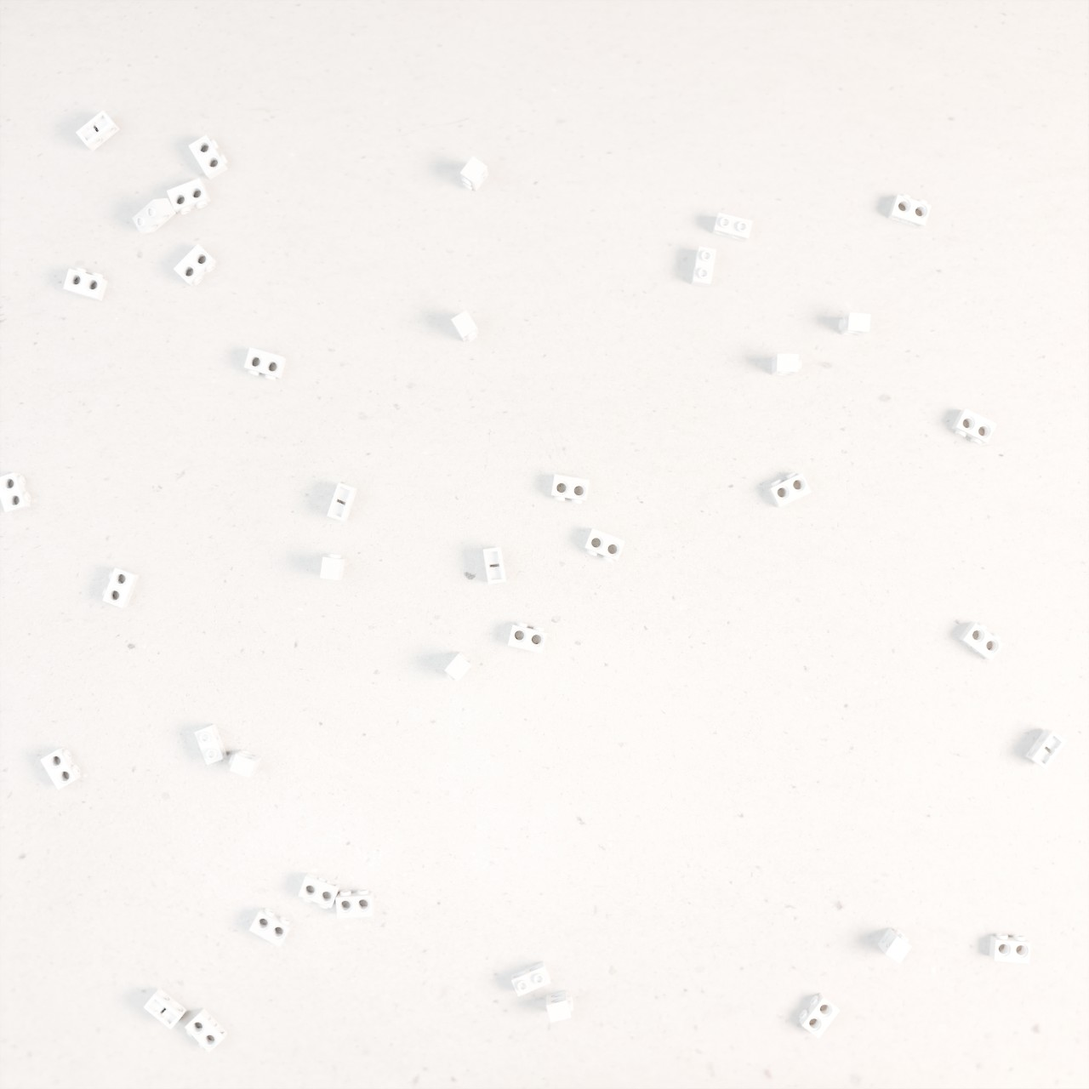lego: (185, 1008, 228, 1053), (173, 244, 217, 287), (799, 993, 840, 1039), (143, 988, 187, 1030), (75, 110, 120, 151), (188, 135, 228, 180), (958, 622, 1004, 661), (1025, 728, 1067, 770), (40, 747, 81, 790), (249, 908, 293, 947), (952, 408, 997, 445), (167, 178, 211, 215), (298, 872, 341, 909), (768, 472, 812, 508), (132, 198, 176, 234), (888, 194, 932, 229), (63, 267, 108, 301), (102, 567, 139, 608), (244, 347, 287, 381), (511, 961, 551, 997), (584, 528, 625, 563), (194, 723, 228, 765), (989, 933, 1031, 964), (877, 927, 912, 964), (0, 472, 31, 513), (508, 622, 547, 654), (712, 212, 753, 242), (327, 482, 357, 522), (336, 889, 374, 919), (551, 474, 589, 504), (691, 246, 716, 288), (460, 156, 488, 192), (228, 749, 262, 778), (546, 990, 574, 1023), (451, 310, 479, 342), (483, 547, 506, 585), (444, 652, 473, 682), (839, 312, 871, 337), (771, 353, 802, 376), (320, 553, 345, 581)
